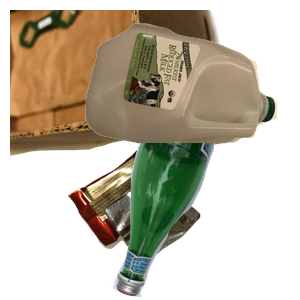cardboard: (10, 10, 237, 158)
glass: (109, 143, 300, 300)
plastic: (83, 21, 300, 162)
trash: (65, 148, 258, 300)
